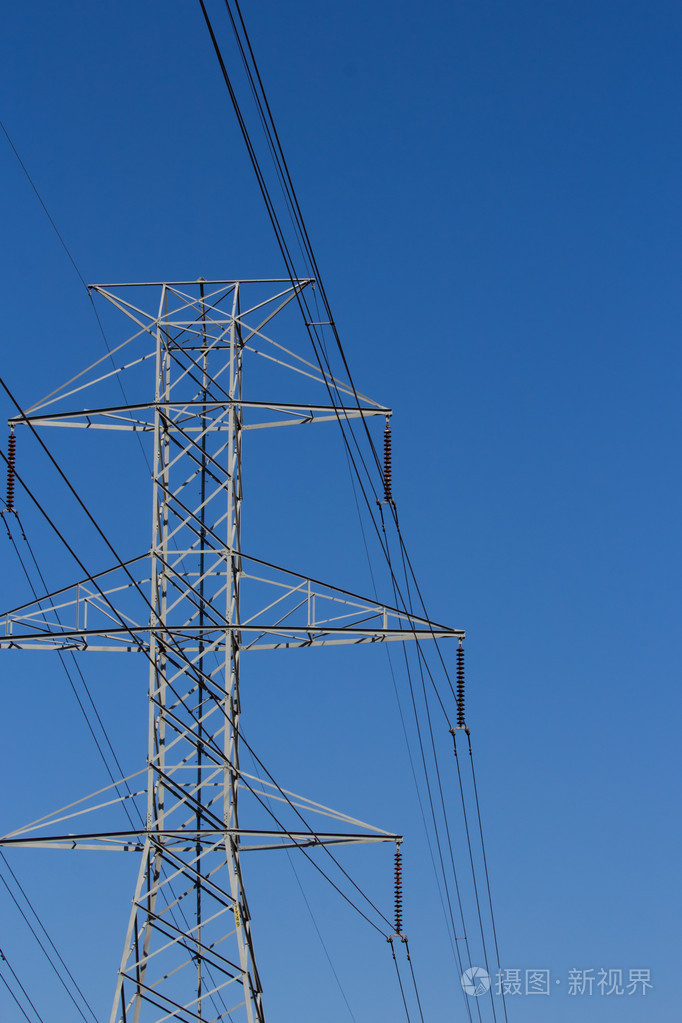insulator: (453, 647, 472, 728), (388, 848, 406, 931), (381, 426, 396, 503), (4, 426, 17, 506)
